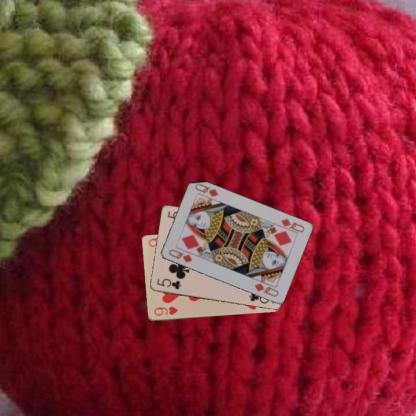5c: (154, 276, 182, 291)
9h: (151, 303, 179, 318)
Qd: (274, 216, 306, 236), (166, 246, 194, 265)
